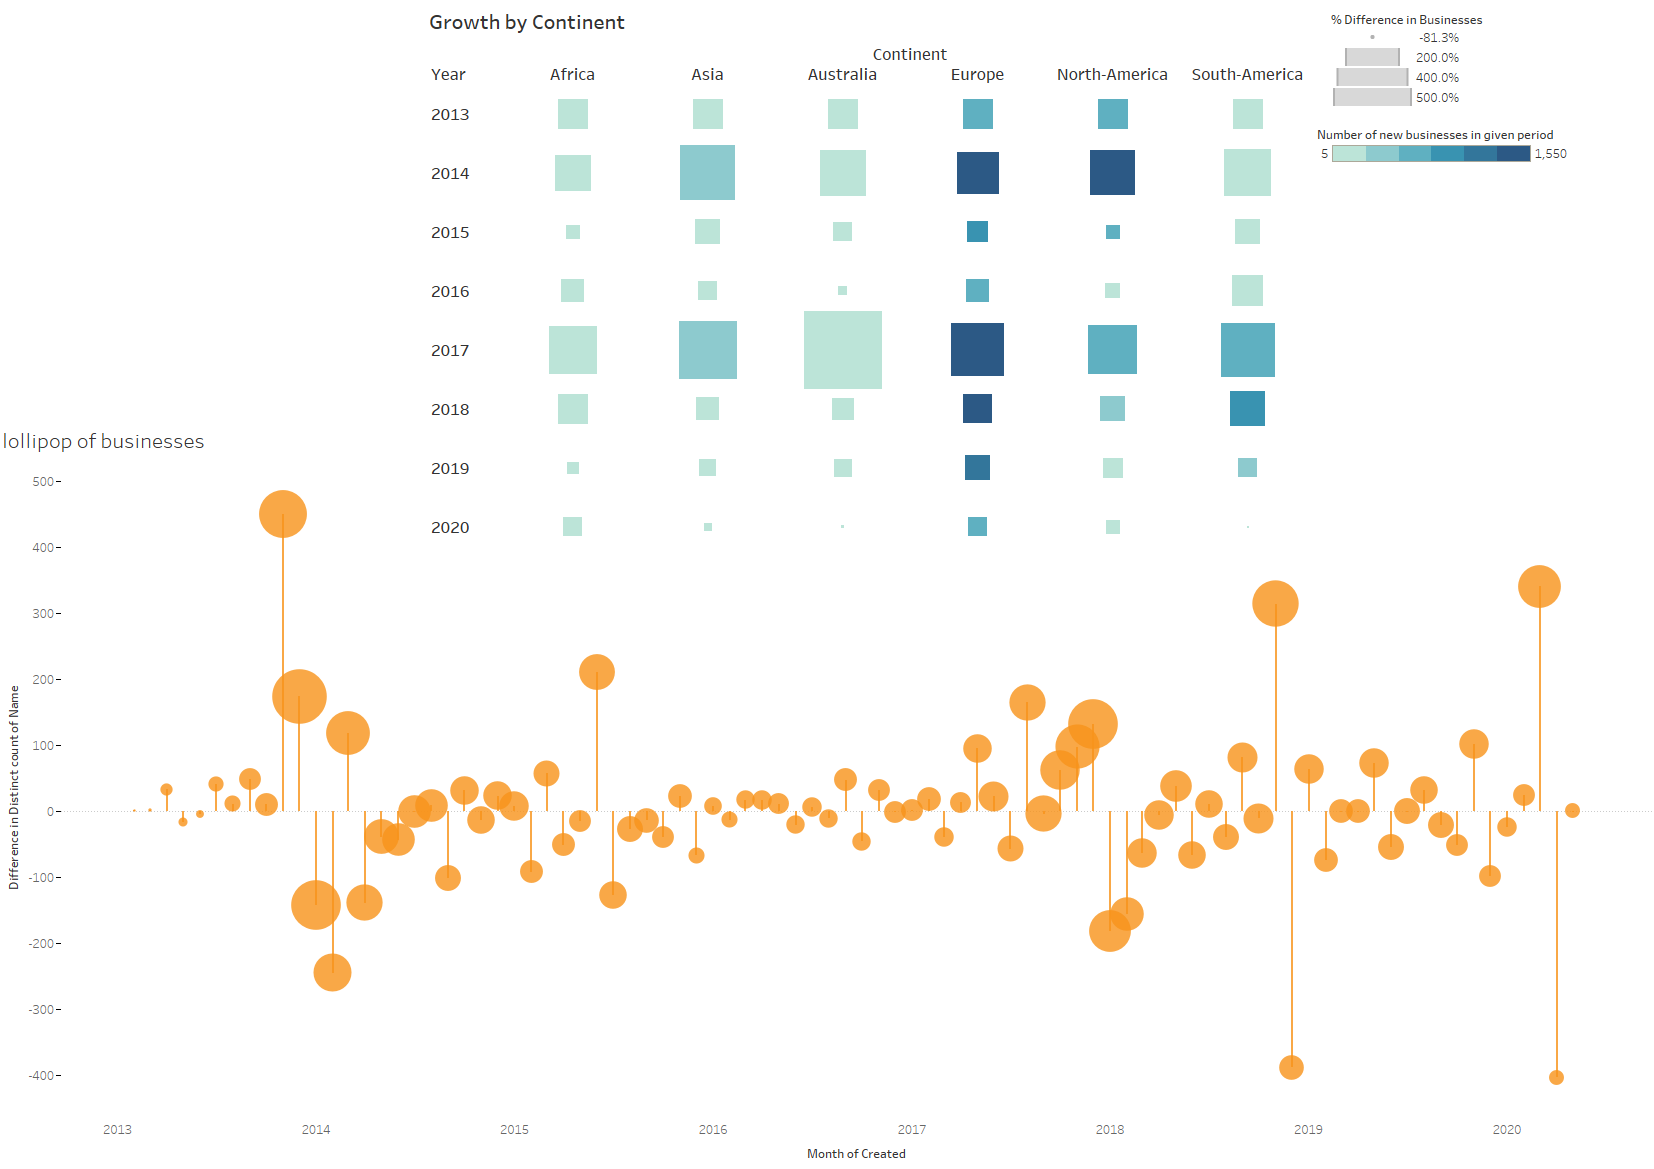

The page's visual inventory and layout, read from the dashboard file:
{"tool":"tableau","page":{"name":"Business Growth","canvas":[1654,1169],"ordinal":1},"visuals":[{"type":"text","box":[1456,13,171,30]},{"type":"legend","title":"Growth by Continent","param":"[federated.0qyqyzj0qf1n4i1dxg0tm0yroo5i].[sum:Businesses:qk]","box":[38,22,255,60]},{"type":"legend","title":"Growth by Continent","param":"[federated.0qyqyzj0qf1n4i1dxg0tm0yroo5i].[pcdf:sum:Businesses:qk]","box":[15,73,293,148]},{"type":"legend","title":"lollipop of businesses","param":"[federated.0rg4kuo0qrrmle1eso1do0pyr2xw].[ctd:name:qk]","box":[1333,554,269,58]}]}

Visuals, with their boxes in screenshot pixels (x1, y1, x2, y2), scaled from the page's 1654x1169 canvas onto the 1654x1169 screenshot:
text: (x1=1456, y1=13, x2=1627, y2=43)
"Growth by Continent" legend: (x1=38, y1=22, x2=293, y2=82)
"Growth by Continent" legend: (x1=15, y1=73, x2=308, y2=221)
"lollipop of businesses" legend: (x1=1333, y1=554, x2=1602, y2=612)
